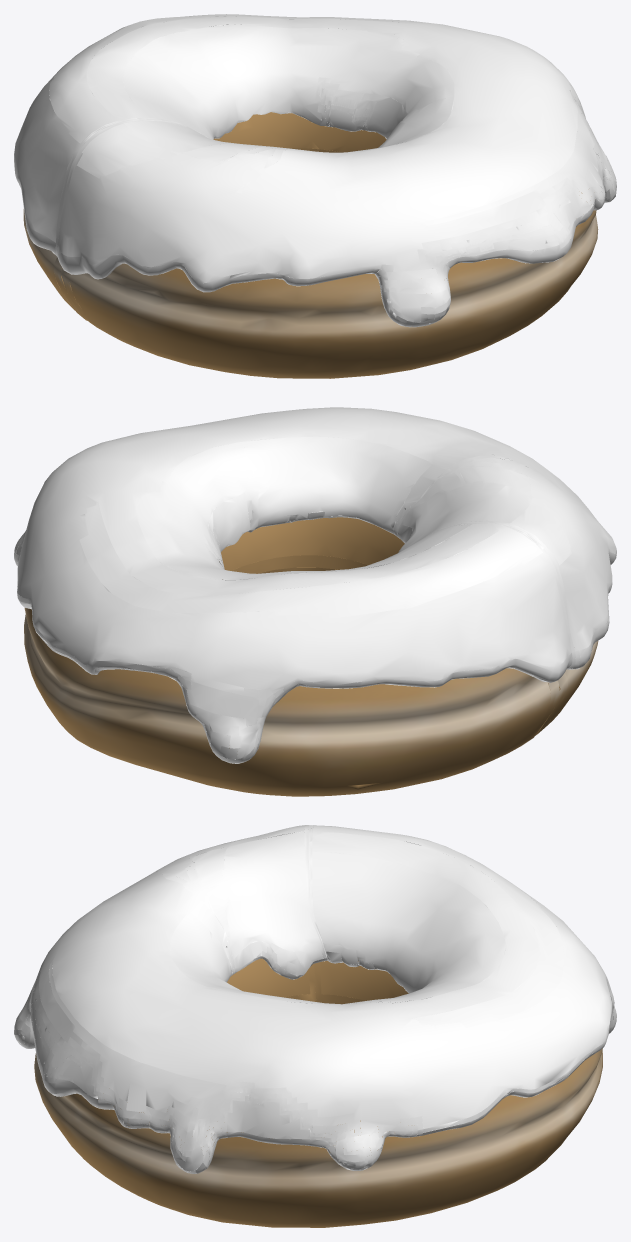
The model's file is donut11.glb.
3 renders of one model, top to bottom at view 1: azimuth 30°, elevation 25°; view 2: azimuth 150°, elevation 25°; view 3: azimuth 270°, elevation 25°, orthographic. The views are drawn at different scales.
Visible parts, largest first — view 1: Donut11; view 2: Donut11; view 3: Donut11.
Part boxes in pixels (left/top/right/bottom): Donut11: left=14, top=14, right=616, bottom=378; Donut11: left=14, top=407, right=616, bottom=796; Donut11: left=14, top=825, right=616, bottom=1227.
Bounding box in the file's own units: 2.37 × 0.9367 × 2.41.
Materials: 2 (1 with a texture image).
